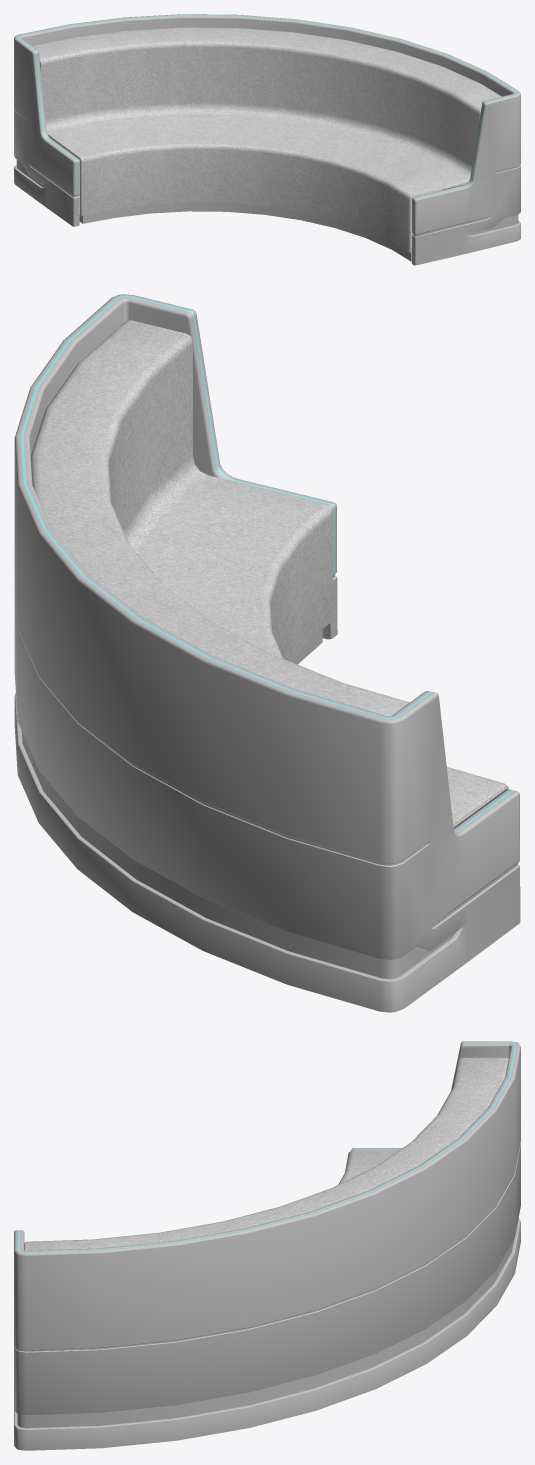
Rendered from D_Bench_005.fbx.
3 views of the same model, one above another, from view 1: azimuth 30°, elevation 25°; view 2: azimuth 150°, elevation 25°; view 3: azimuth 270°, elevation 25° (orthographic). The views are drawn at different scales.
Parts seen in each view (by area): view 1: D_Bench_005; view 2: D_Bench_005; view 3: D_Bench_005.
Boxes of the visible parts, <box> form: D_Bench_005: <box>14,14,520,265</box>; D_Bench_005: <box>14,294,520,1012</box>; D_Bench_005: <box>14,1041,520,1450</box>.
Bounding box in the file's own units: 2.5 × 1.07 × 2.5.
